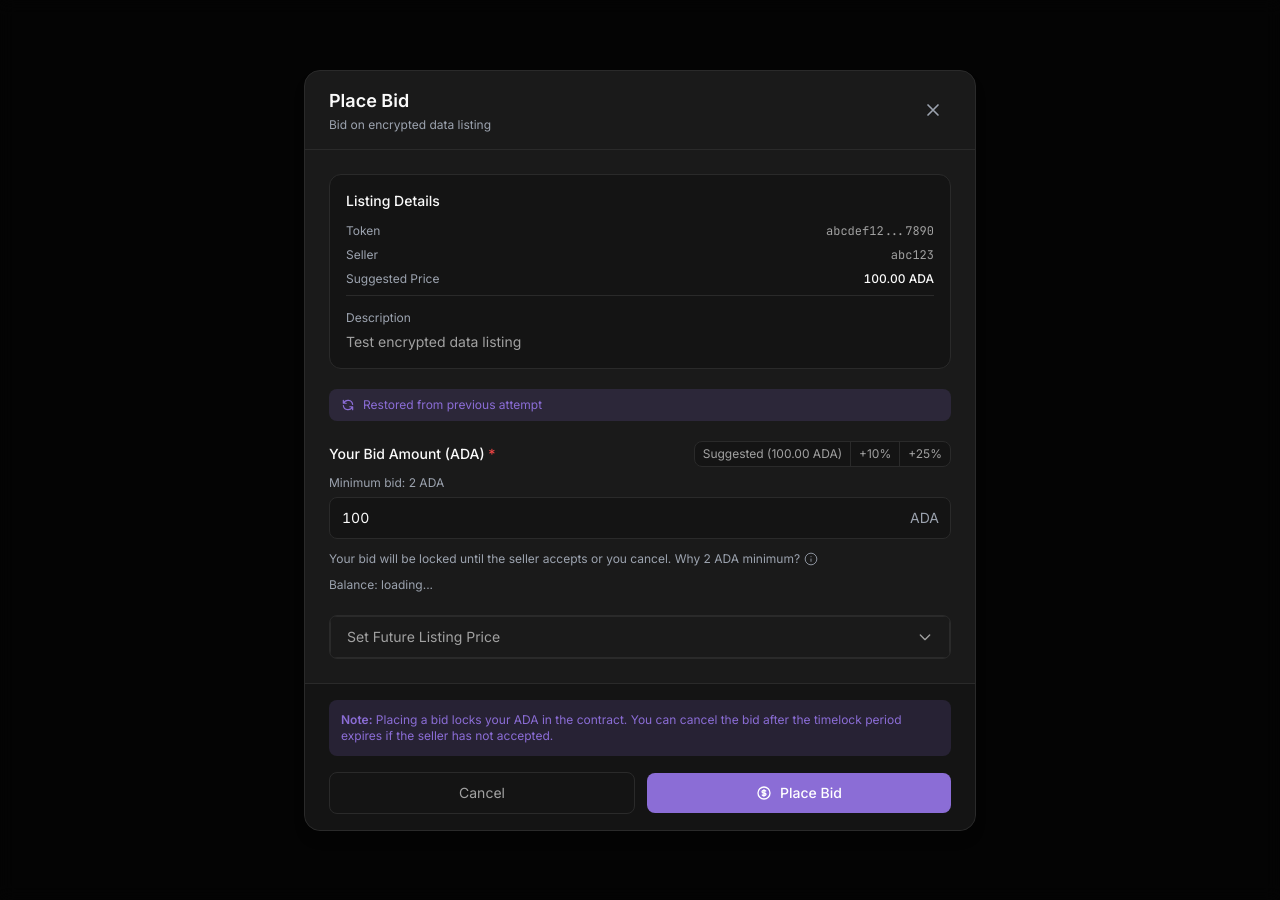
PlaceBidModal › shows action guidance on submit error
Click the button "Place Bid".
click(799, 792)  # box top-left (647, 772), bottom-right (951, 812)
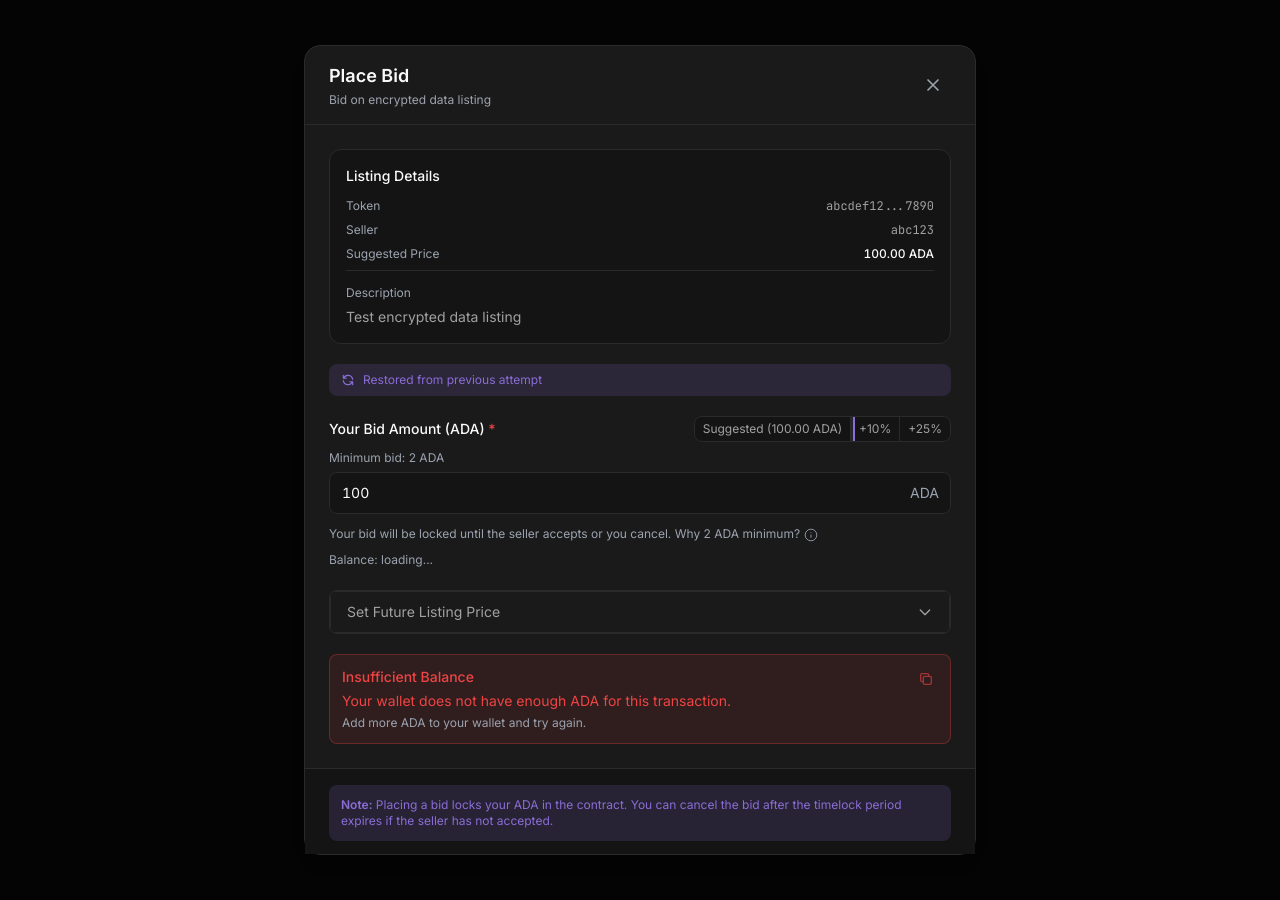
Now the text "Insufficient Balance" is shown, box top-left (342, 668), bottom-right (474, 685)
Now the text "Add more ADA to your wallet and try again." is shown, box top-left (342, 715), bottom-right (586, 730)
